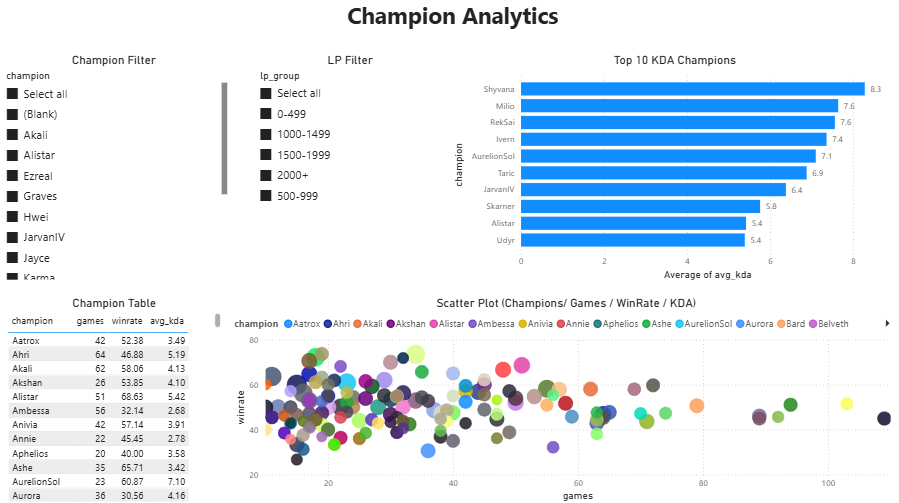

What the dashboard file says about the page in this screenshot:
{"tool":"powerbi","page":{"name":"Champion Analytics","canvas":[1280,720],"ordinal":1},"visuals":[{"type":"slicer","title":"Champion Filter","fields":{"Values":["top_winrate.champion"]},"box":[0,80.4,331.1,326.4],"z":0},{"type":"slicer","title":"LP Filter","fields":{"Values":["lp_distribution.lp_group"]},"box":[359.1,80.4,280.9,326.4],"z":1000},{"type":"textbox","box":[9.3,0,1270.7,80.4],"z":2000},{"type":"tableEx","title":"Champion Table","fields":{"Values":["champion_stats.champion","champion_stats.games","champion_stats.winrate","champion_stats.avg_kda"]},"box":[9.3,424.3,312.4,296.1],"z":3000},{"type":"scatterChart","title":"Scatter Plot (Champions/ Games / WinRate / KDA)","fields":{"X":["champion_stats.games"],"Y":["champion_stats.winrate"],"Size":["Avg(champion_stats.avg_kda)"],"Series":["champion_stats.champion"]},"box":[331.1,424.3,948.9,296.1],"z":4000},{"type":"barChart","title":"Top 10 KDA Champions","fields":{"Category":["top_kda.champion"],"Y":["Avg(top_kda.avg_kda)"]},"box":[640,80,640,326],"z":4001}]}

Visuals, with their boxes in screenshot pixels (x1, y1, x2, y2), scaled from the page's 1280x720 canvas onto the 899x503 screenshot:
"Champion Filter" slicer: [x1=0, y1=56, x2=233, y2=284]
"LP Filter" slicer: [x1=252, y1=56, x2=450, y2=284]
textbox: [x1=7, y1=0, x2=898, y2=56]
"Champion Table" tableEx: [x1=7, y1=296, x2=226, y2=502]
"Scatter Plot (Champions/ Games / WinRate / KDA)" scatterChart: [x1=233, y1=296, x2=898, y2=502]
"Top 10 KDA Champions" barChart: [x1=450, y1=56, x2=898, y2=284]
